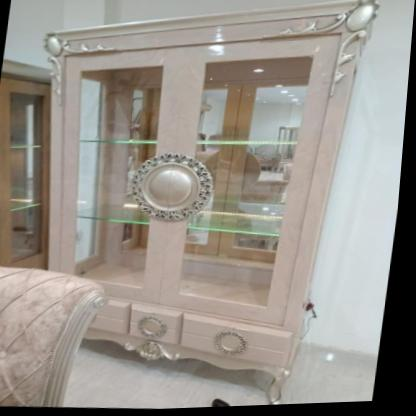Cupboard: (44, 0, 380, 407)
